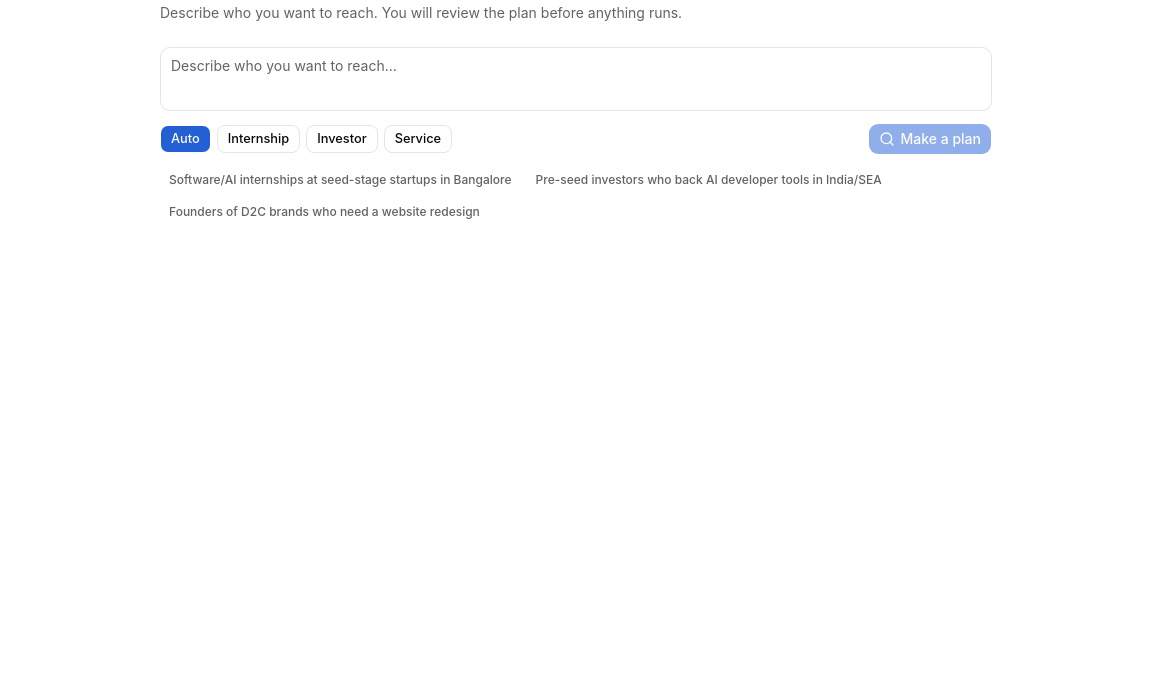
it: DiscoverPage › blocks Run when every query has been removed
Type "x" into the text box named "Who do you want to reach?".
click(576, 79); type("x")  # box top-left (160, 47), bottom-right (992, 111)
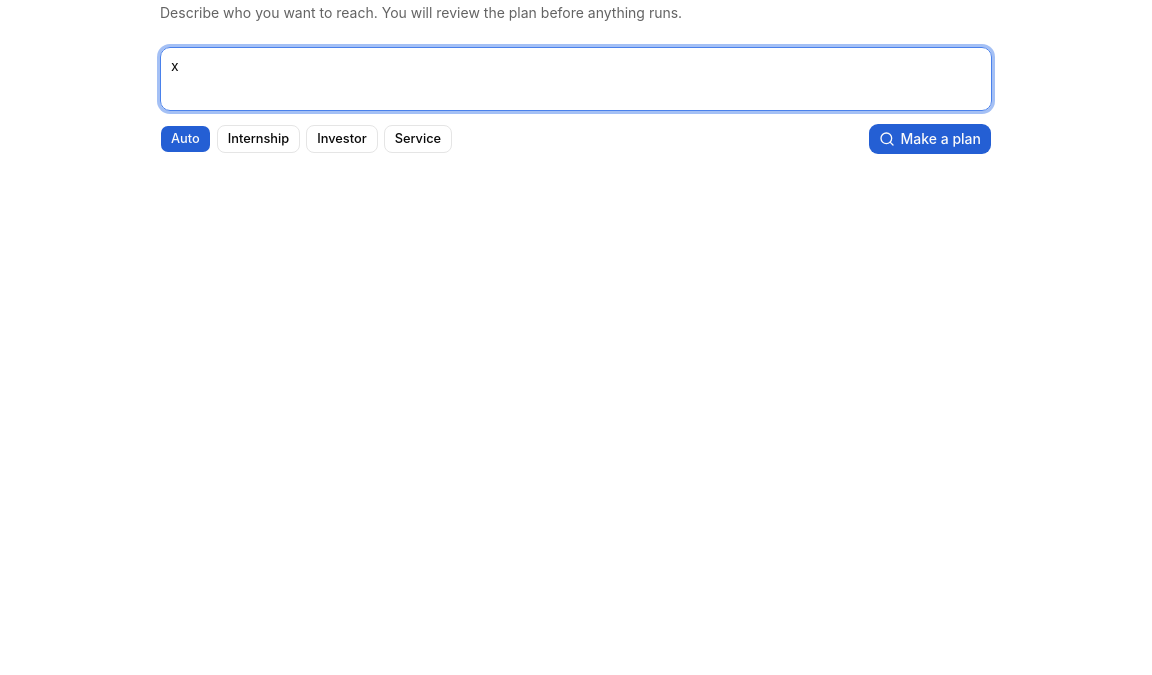
Click the button "Make a plan".
click(930, 139)  # box top-left (868, 123), bottom-right (992, 155)
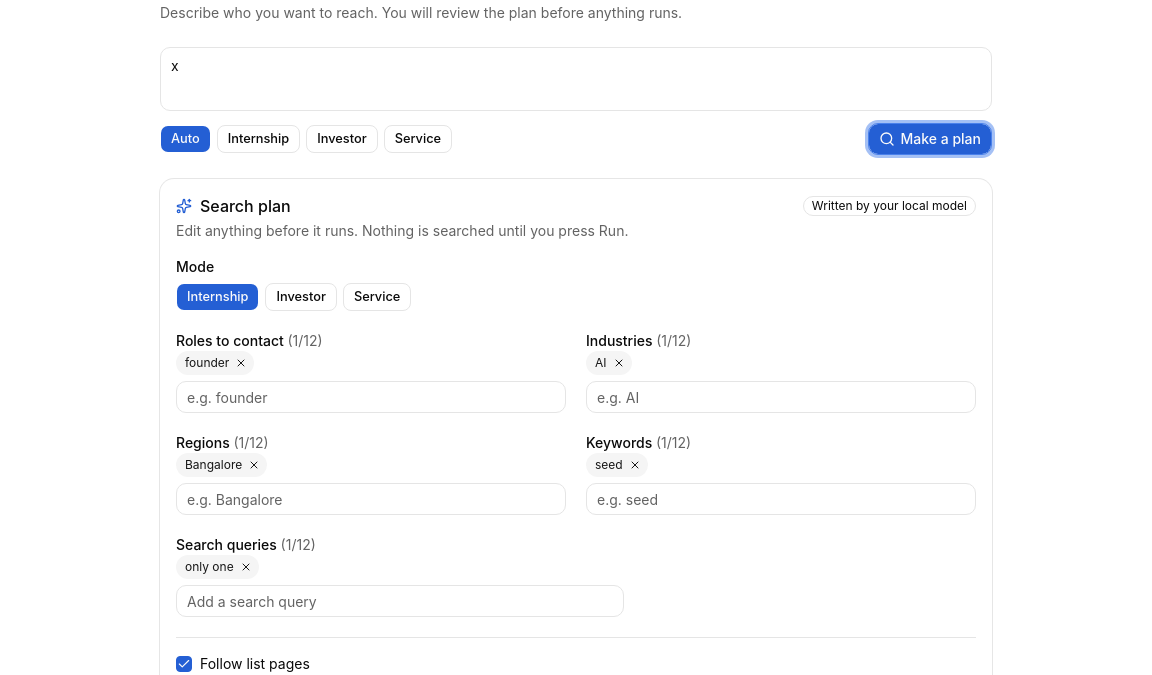
Click the button named "Remove only one".
click(246, 567)  # box top-left (238, 559), bottom-right (254, 575)
(page scrolled)
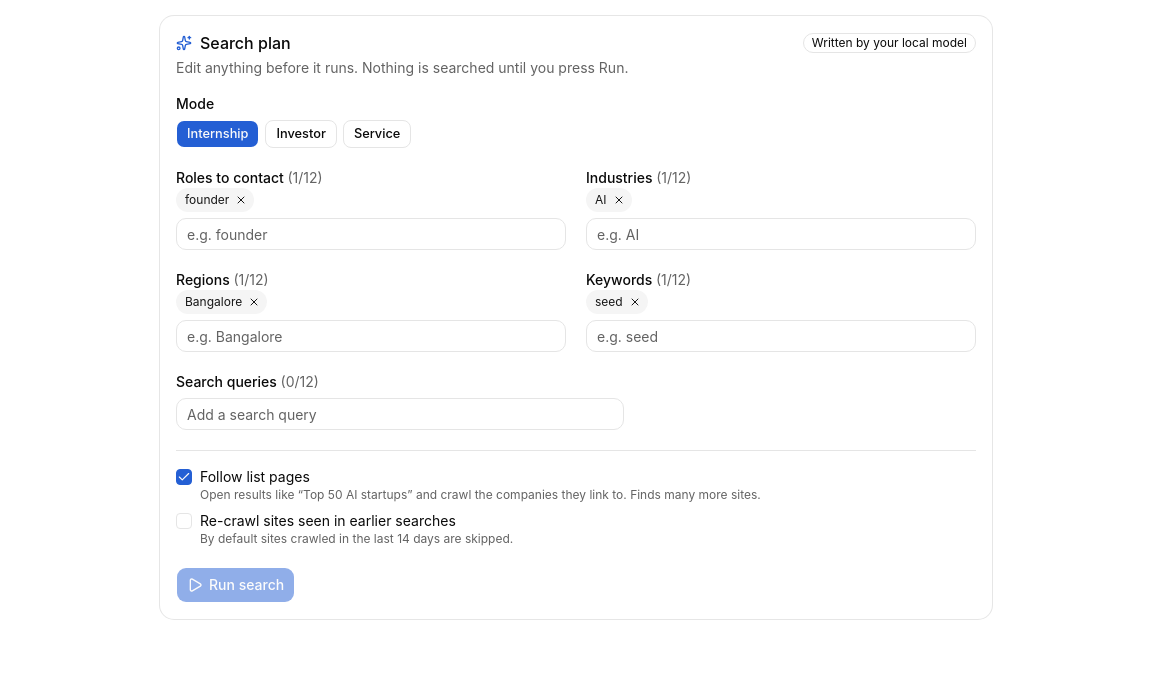
Expected: the button "Run search" is disabled, top-left (176, 567), bottom-right (295, 603)
